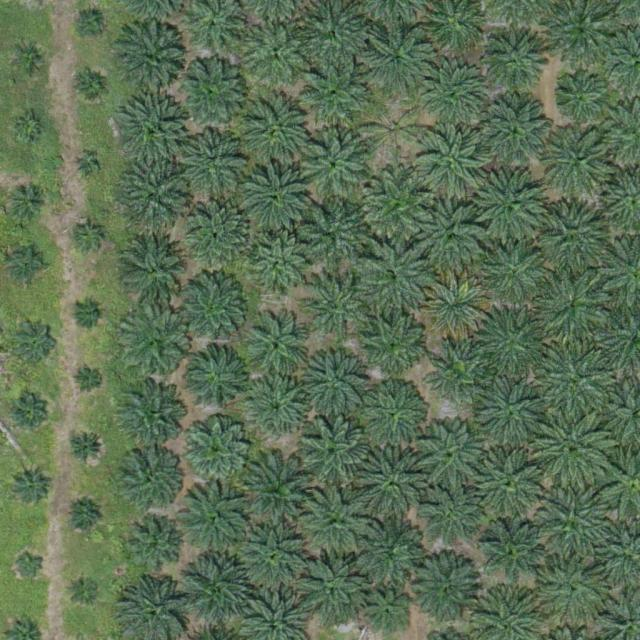Healthy: (242, 454, 320, 533), (534, 269, 612, 348), (538, 344, 616, 423), (534, 408, 612, 486), (349, 512, 420, 583), (182, 487, 253, 558), (544, 126, 615, 197), (535, 204, 606, 275), (299, 59, 370, 130), (481, 97, 552, 168), (359, 244, 430, 315), (177, 275, 248, 346), (181, 415, 252, 486), (121, 310, 192, 381), (409, 557, 480, 627), (358, 449, 428, 520), (302, 486, 372, 557), (296, 550, 366, 621), (239, 521, 309, 592), (475, 376, 545, 447), (474, 446, 544, 517), (118, 27, 188, 98), (119, 97, 190, 167), (120, 160, 190, 231), (120, 232, 190, 303), (242, 17, 313, 87), (244, 94, 314, 165), (242, 161, 312, 232), (302, 132, 372, 203), (362, 170, 432, 241), (416, 201, 486, 272), (421, 65, 491, 136), (419, 419, 489, 490), (302, 272, 372, 343), (299, 417, 369, 488), (117, 385, 187, 456), (538, 485, 608, 555), (537, 553, 607, 623), (183, 553, 253, 623), (474, 170, 544, 240), (481, 239, 551, 309), (475, 307, 545, 377), (179, 58, 249, 128), (297, 200, 367, 270), (363, 24, 433, 94), (417, 125, 487, 195), (357, 310, 427, 380), (480, 524, 543, 587), (249, 236, 312, 299), (247, 319, 310, 382), (120, 446, 183, 509), (189, 203, 251, 266), (186, 131, 248, 194), (363, 385, 425, 448), (305, 351, 367, 414), (485, 28, 547, 90), (248, 377, 310, 439), (188, 348, 250, 410), (423, 491, 478, 546), (127, 519, 182, 574), (432, 345, 486, 401), (556, 75, 603, 123), (362, 590, 409, 637)
Small: (13, 318, 60, 365), (10, 397, 50, 437), (10, 245, 49, 285), (65, 498, 104, 538), (67, 428, 106, 468), (11, 185, 50, 224), (11, 467, 50, 506), (75, 221, 106, 253), (69, 572, 100, 604), (16, 548, 47, 580), (72, 298, 103, 330), (15, 113, 46, 144), (15, 45, 46, 76), (75, 366, 106, 397), (76, 8, 107, 39), (76, 73, 107, 104), (75, 155, 99, 179)
Yellow: (420, 274, 491, 344), (364, 100, 426, 163)
